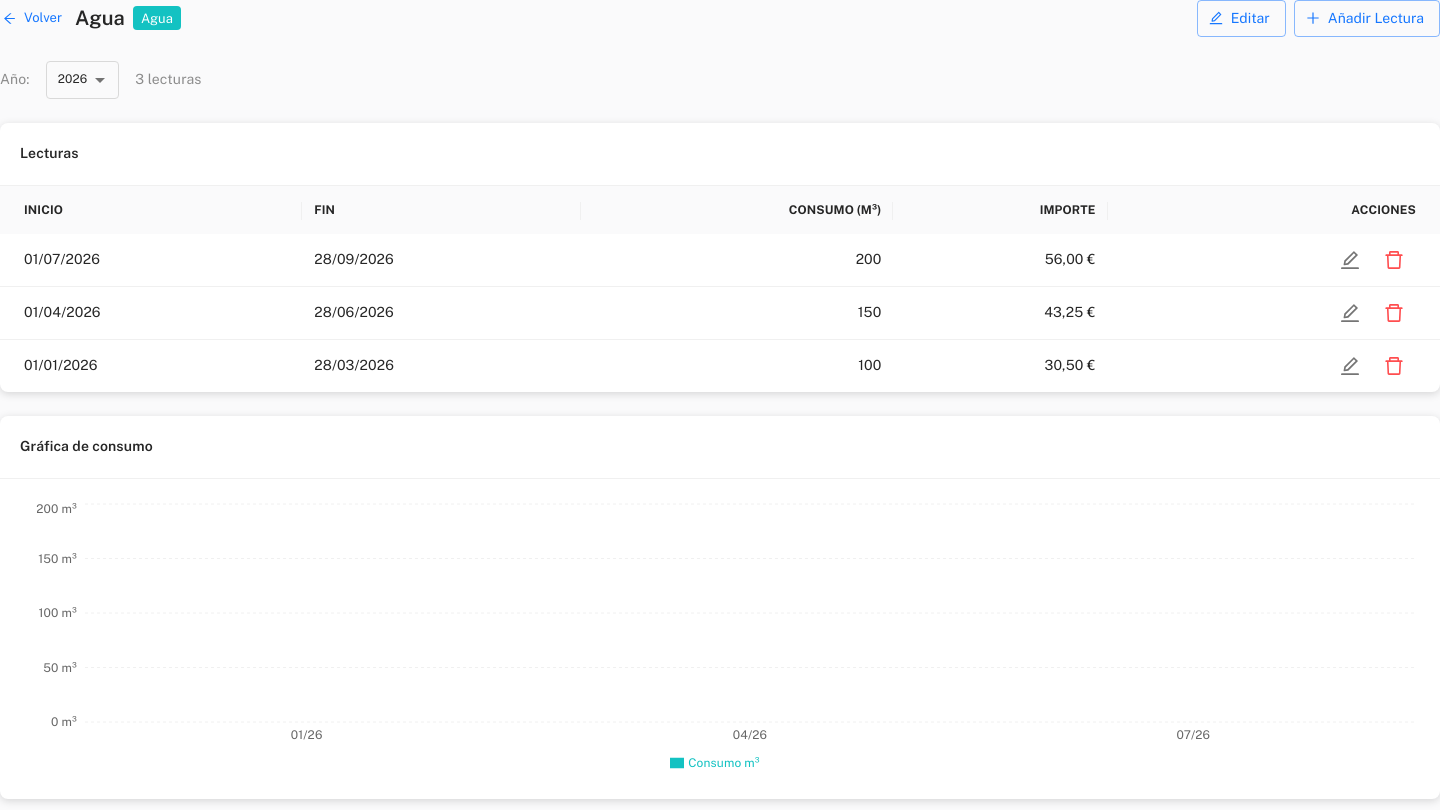
Flow: reading CRUD in SupplyDetail › "Añadir lectura" button opens the form in creation mode
The image size is (1440, 810).
Click the button "Añadir lectura". click: (1367, 18)
box: [1294,0,1439,36]
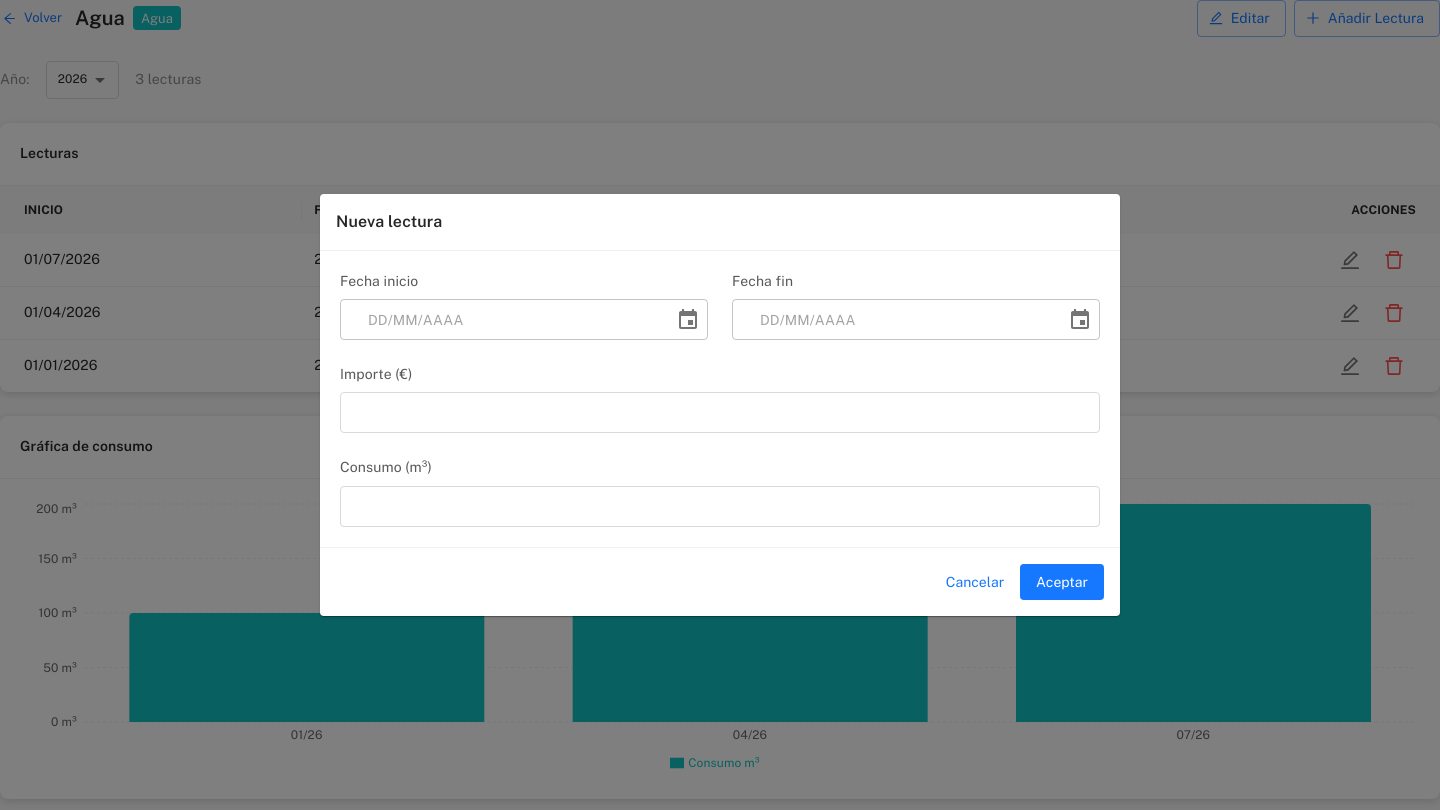
Check: the text "Nueva lectura" is shown, box [336,212,442,231]
